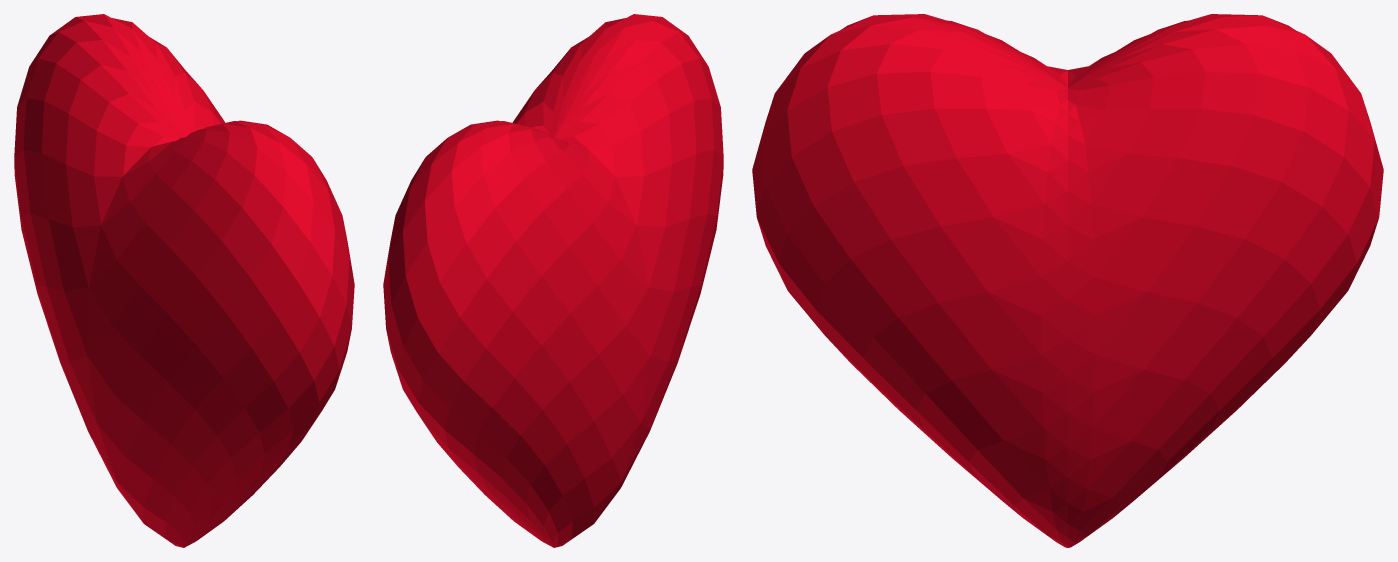
File: heart.glb
3 views of the same model, side by side, from view 1: azimuth 30°, elevation 25°; view 2: azimuth 150°, elevation 25°; view 3: azimuth 270°, elevation 25° (orthographic). The views are drawn at different scales.
Parts seen in each view (by area): view 1: Heart; view 2: Heart; view 3: Heart.
Part boxes in pixels (x1,y1,x2,y2): Heart: (14,14,354,547); Heart: (383,14,723,547); Heart: (752,14,1383,547).
Size of the model in its own units: 14.81 by 34.38 by 37.15.
